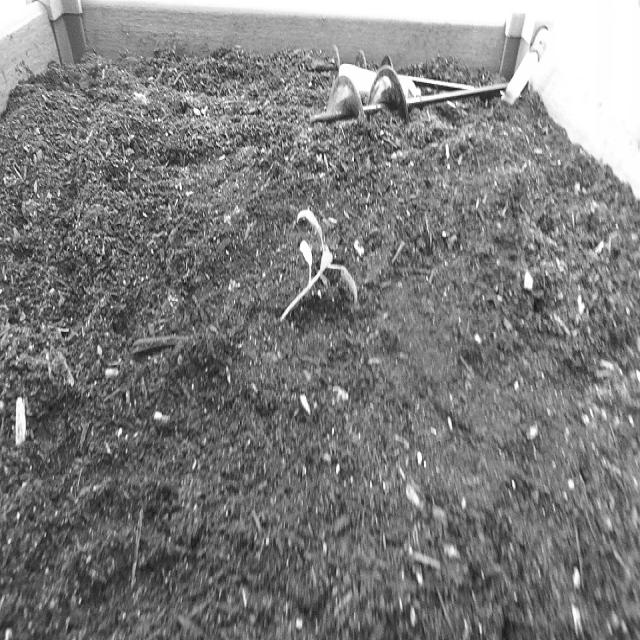Healthy: (276, 206, 359, 334)
